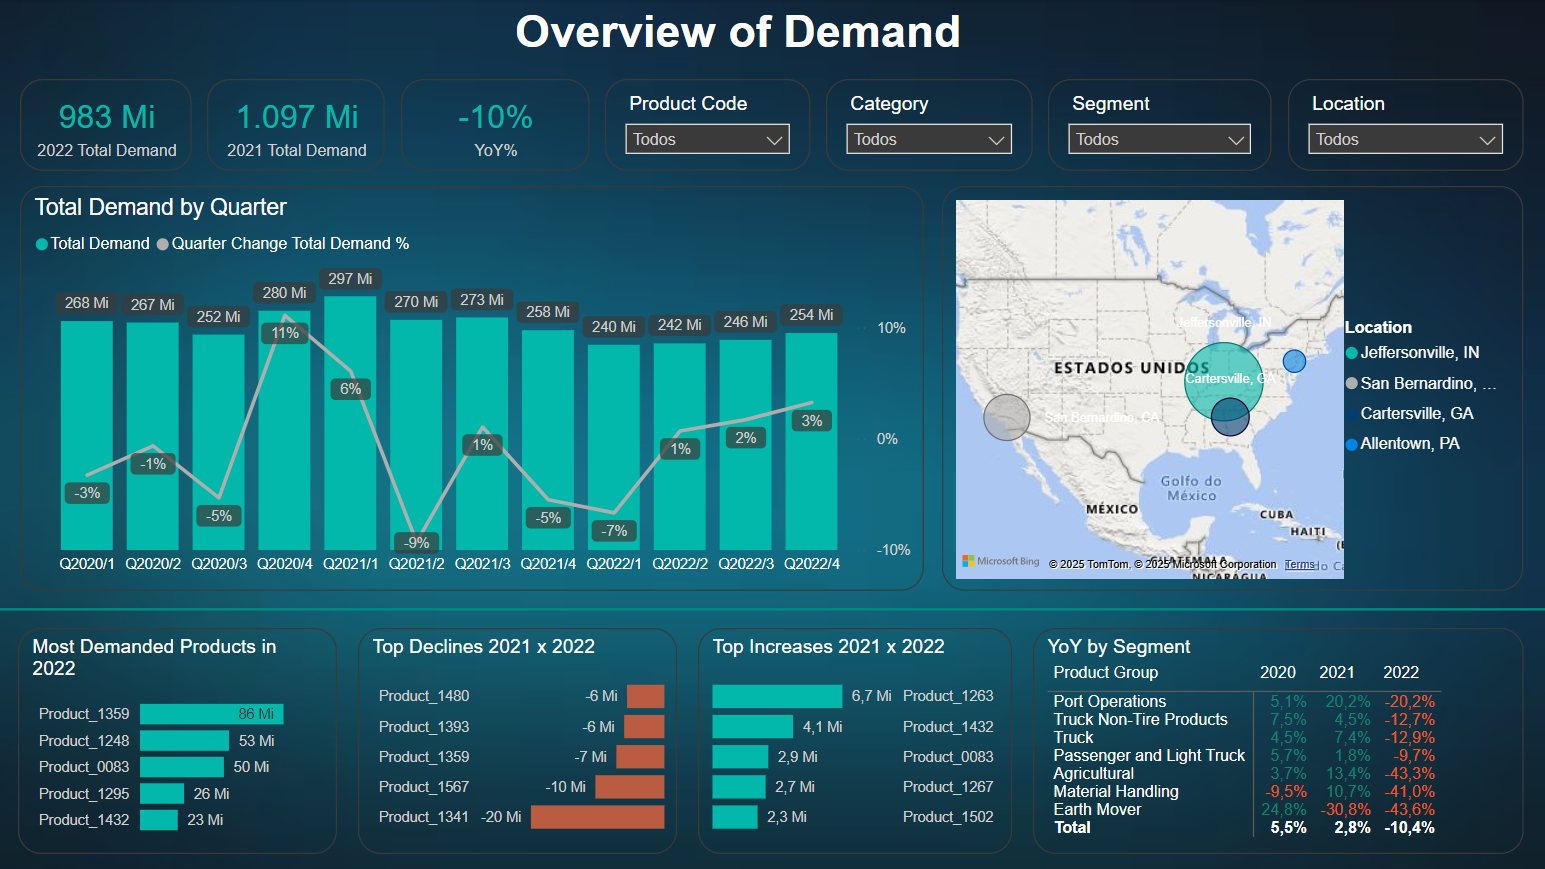

This screenshot's page, from the dashboard's own definition file:
{"tool":"powerbi","page":{"name":"Home","canvas":[1280,720],"ordinal":0},"visuals":[{"type":"lineStackedColumnComboChart","title":"Total Demand by Quarter","fields":{"Category":["Calendar.Quarter"],"Y":["Medidas.Total Demand"],"Y2":["Medidas.Quarter Change Total Demand %"]},"box":[17.5,153.7,748,334.6],"z":0},{"type":"barChart","title":"Most Demanded Products in 2022","fields":{"Category":["Historical Product Demand.Product Code"],"Y":["Medidas.Total Demand"]},"box":[15.6,519.4,263.6,186.7],"z":1000},{"type":"map","title":"Total Demand by Location","fields":{"Category":["Warehouse.Location"],"Size":["Medidas.Total Demand"],"Series":["Warehouse.Location"]},"box":[780.1,153.7,481.5,334.6],"z":2000},{"type":"barChart","title":"Top Declines 2021 x 2022","fields":{"Category":["Historical Product Demand.Product Code"],"Y":["Medidas.YoY Change Total Demand"]},"box":[297,519.4,263.6,186.7],"z":3000},{"type":"barChart","title":"Top Increases 2021 x 2022","fields":{"Category":["Historical Product Demand.Product Code"],"Y":["Medidas.YoY Change Total Demand"]},"box":[578.4,519.4,259.7,186.7],"z":4000},{"type":"card","title":"Total Demand by Year","fields":{"Values":["Medidas.Total Demand"]},"box":[17.5,65.2,142,75.9],"z":5000},{"type":"card","title":"Total Demand by Year","fields":{"Values":["Medidas.YoY Change Total Demand %"]},"box":[332.6,65.2,155.6,75.9],"z":6000},{"type":"shape","box":[0,494.1,1280,20.4],"z":7000},{"type":"card","title":"Total Demand by Year","fields":{"Values":["Medidas.Total Demand"]},"box":[172.2,65.2,146.9,75.9],"z":8000},{"type":"textbox","box":[421.8,0,539.9,56.9],"z":9000},{"type":"slicer","fields":{"Values":["Historical Product Demand.Product_Code"]},"box":[501.5,65.2,169.9,75.9],"z":10000},{"type":"slicer","fields":{"Values":["Product Categories.Product_Category"]},"box":[684.5,65.2,170.8,75.9],"z":11000},{"type":"slicer","fields":{"Values":["Product Categories.Product Group and Segment"]},"box":[868.4,65.2,185.4,75.9],"z":12000},{"type":"slicer","fields":{"Values":["Warehouse.Location"]},"box":[1067,65.2,194.9,75.9],"z":13000},{"type":"pivotTable","title":"YoY by Segment","fields":{"Values":["Medidas.YoY Change Total Demand %"],"Columns":["Calendar.Year"],"Rows":["Product Categories.Product Group"]},"box":[855.9,519.4,405.6,186.7],"z":14000}]}

Visuals, with their boxes in screenshot pixels (x1, y1, x2, y2), scaled from the page's 1280x720 canvas onto the 1545x869 screenshot:
"Total Demand by Quarter" lineStackedColumnComboChart: 21,186,924,589
"Most Demanded Products in 2022" barChart: 19,627,337,852
"Total Demand by Location" map: 942,186,1523,589
"Top Declines 2021 x 2022" barChart: 358,627,677,852
"Top Increases 2021 x 2022" barChart: 698,627,1012,852
"Total Demand by Year" card: 21,79,193,170
"Total Demand by Year" card: 401,79,589,170
shape: 0,596,1544,621
"Total Demand by Year" card: 208,79,385,170
textbox: 509,0,1161,69
slicer - Historical Product Demand.Product_Code: 605,79,810,170
slicer - Product Categories.Product_Category: 826,79,1032,170
slicer - Product Categories.Product Group and Segment: 1048,79,1272,170
slicer - Warehouse.Location: 1288,79,1523,170
"YoY by Segment" pivotTable: 1033,627,1523,852
